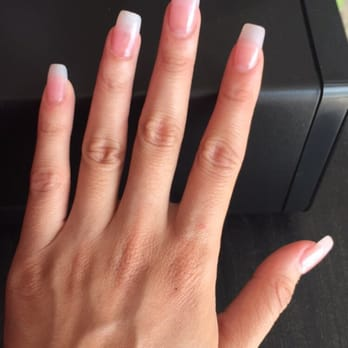finger: (173, 17, 289, 225), (116, 1, 210, 214), (65, 14, 142, 230), (22, 54, 75, 241)
